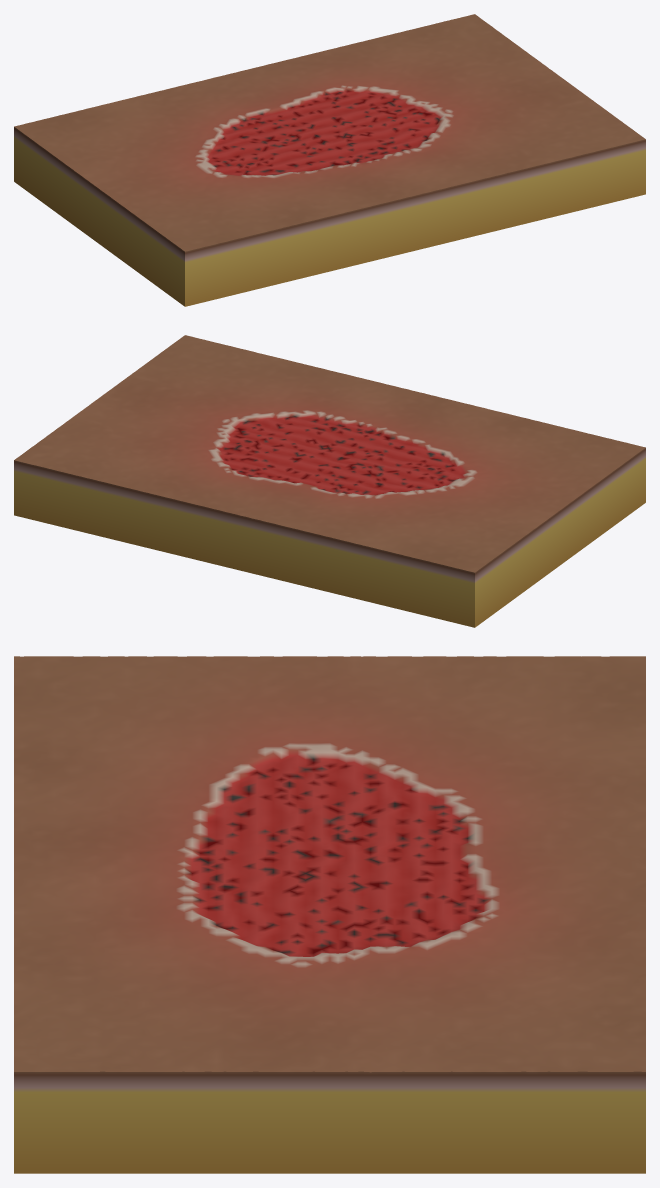
The model's file is care_route.glb.
3 renders of one model, top to bottom at view 1: azimuth 30°, elevation 25°; view 2: azimuth 150°, elevation 25°; view 3: azimuth 270°, elevation 25°, orthographic. The views are drawn at different scales.
Visible parts, largest first — view 1: care_route; view 2: care_route; view 3: care_route.
Part boxes in pixels (x1=…): care_route: x1=14, y1=14, x2=645, y2=306; care_route: x1=14, y1=335, x2=645, y2=627; care_route: x1=14, y1=656, x2=645, y2=1173.
Size of the model in its own units: 14 by 1.61 by 9.
